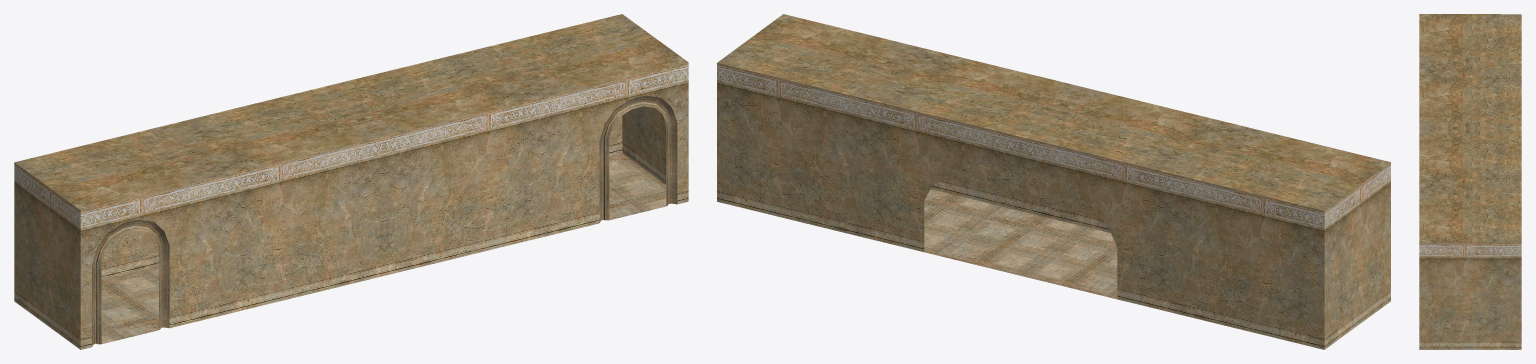
The model's file is mun_tato_capitol_s01_r5_foyer2_mesh_foyer2.fbx.
3 views of the same model, side by side, from view 1: azimuth 30°, elevation 25°; view 2: azimuth 150°, elevation 25°; view 3: azimuth 270°, elevation 25° (orthographic). The views are drawn at different scales.
Parts seen in each view (by area): view 1: mesh_node; view 2: mesh_node; view 3: mesh_node.
Part boxes in pixels (<box>): mesh_node: <box>14,14,688,349</box>; mesh_node: <box>717,14,1390,349</box>; mesh_node: <box>1419,14,1521,349</box>.
Size of the model in its own units: 17.38 by 3.81 by 3.29.
